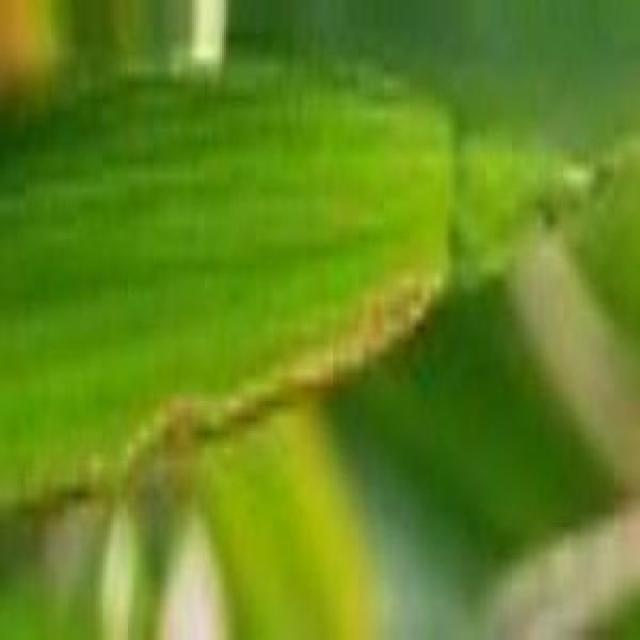Bacterial_Blight: (94, 272, 452, 498)
